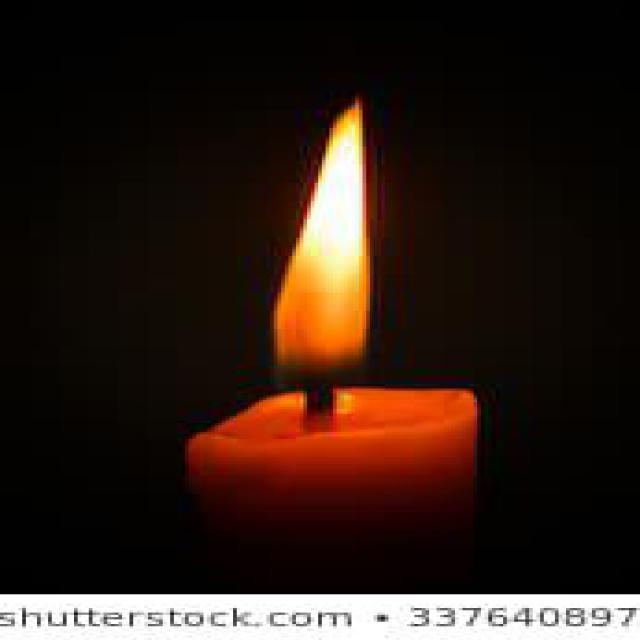Fire: (270, 103, 366, 391)
